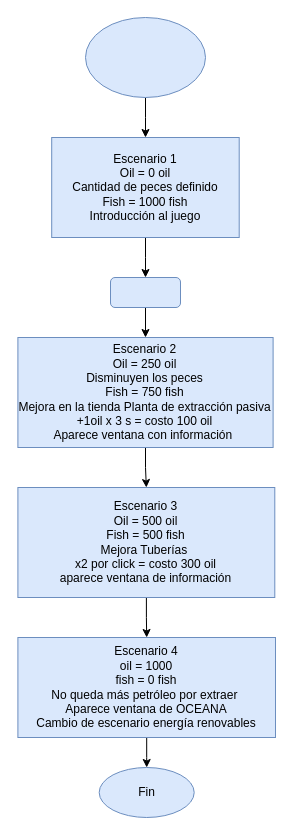
The diagram is 293 pixels wide and 835 high, and some of its shapes have lost their labels. Each missing label, with the centre of its shape:
Botón (click): point 145,292
Fish Oil: point 145,57
